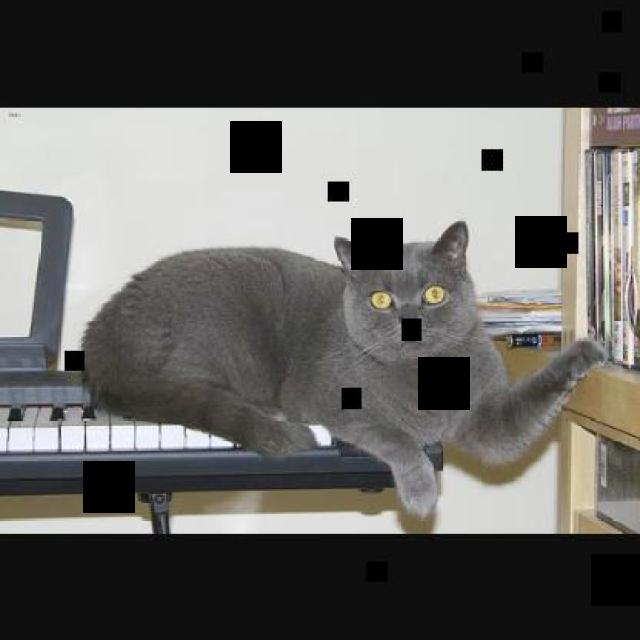unauthorized: (80, 218, 609, 518)
